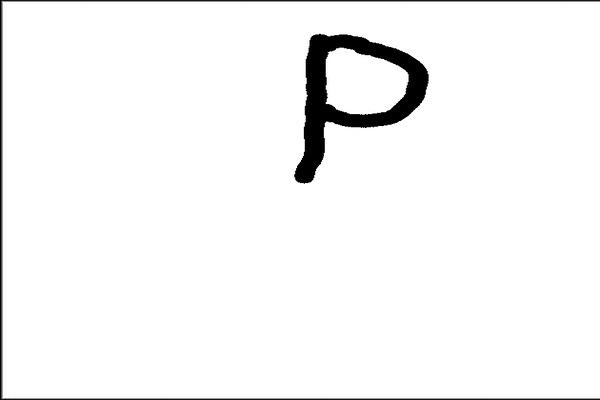P: (277, 18, 433, 200)
